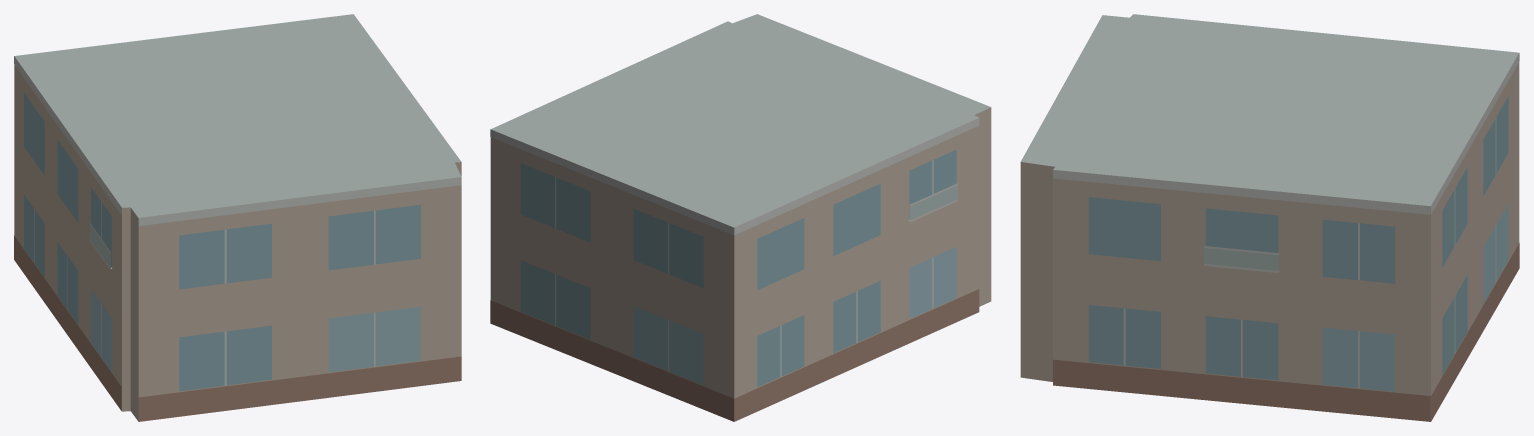
File: survey-upis-33011416.glb
The picture shows the model from 3 angles, left to right: view 1: azimuth 30°, elevation 25°; view 2: azimuth 150°, elevation 25°; view 3: azimuth 270°, elevation 25°; orthographic projection. The views are drawn at different scales.
Parts seen in each view (by area): view 1: survey-upis-33011416.tmp; view 2: survey-upis-33011416.tmp; view 3: survey-upis-33011416.tmp.
Boxes of the visible parts, bbox=[...] form: survey-upis-33011416.tmp: bbox=[14, 14, 461, 421]; survey-upis-33011416.tmp: bbox=[490, 14, 991, 421]; survey-upis-33011416.tmp: bbox=[1020, 14, 1519, 421].
Size of the model in its own units: 11.67 by 6.1 by 12.8.
